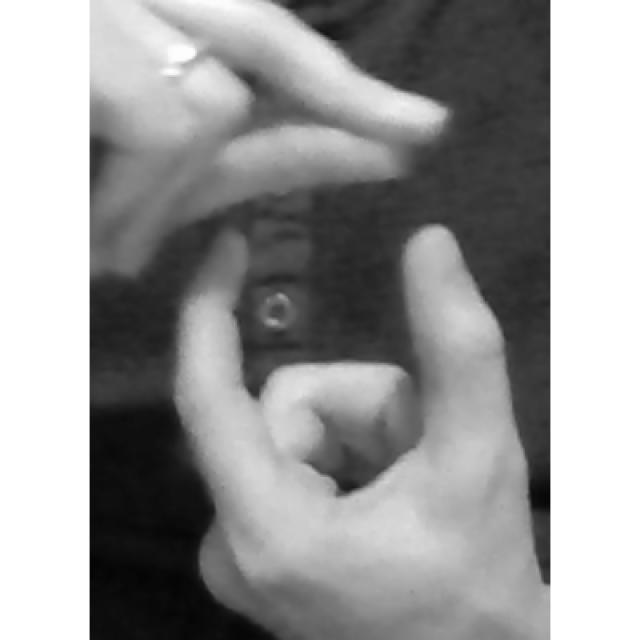U--: (90, 14, 550, 640)
